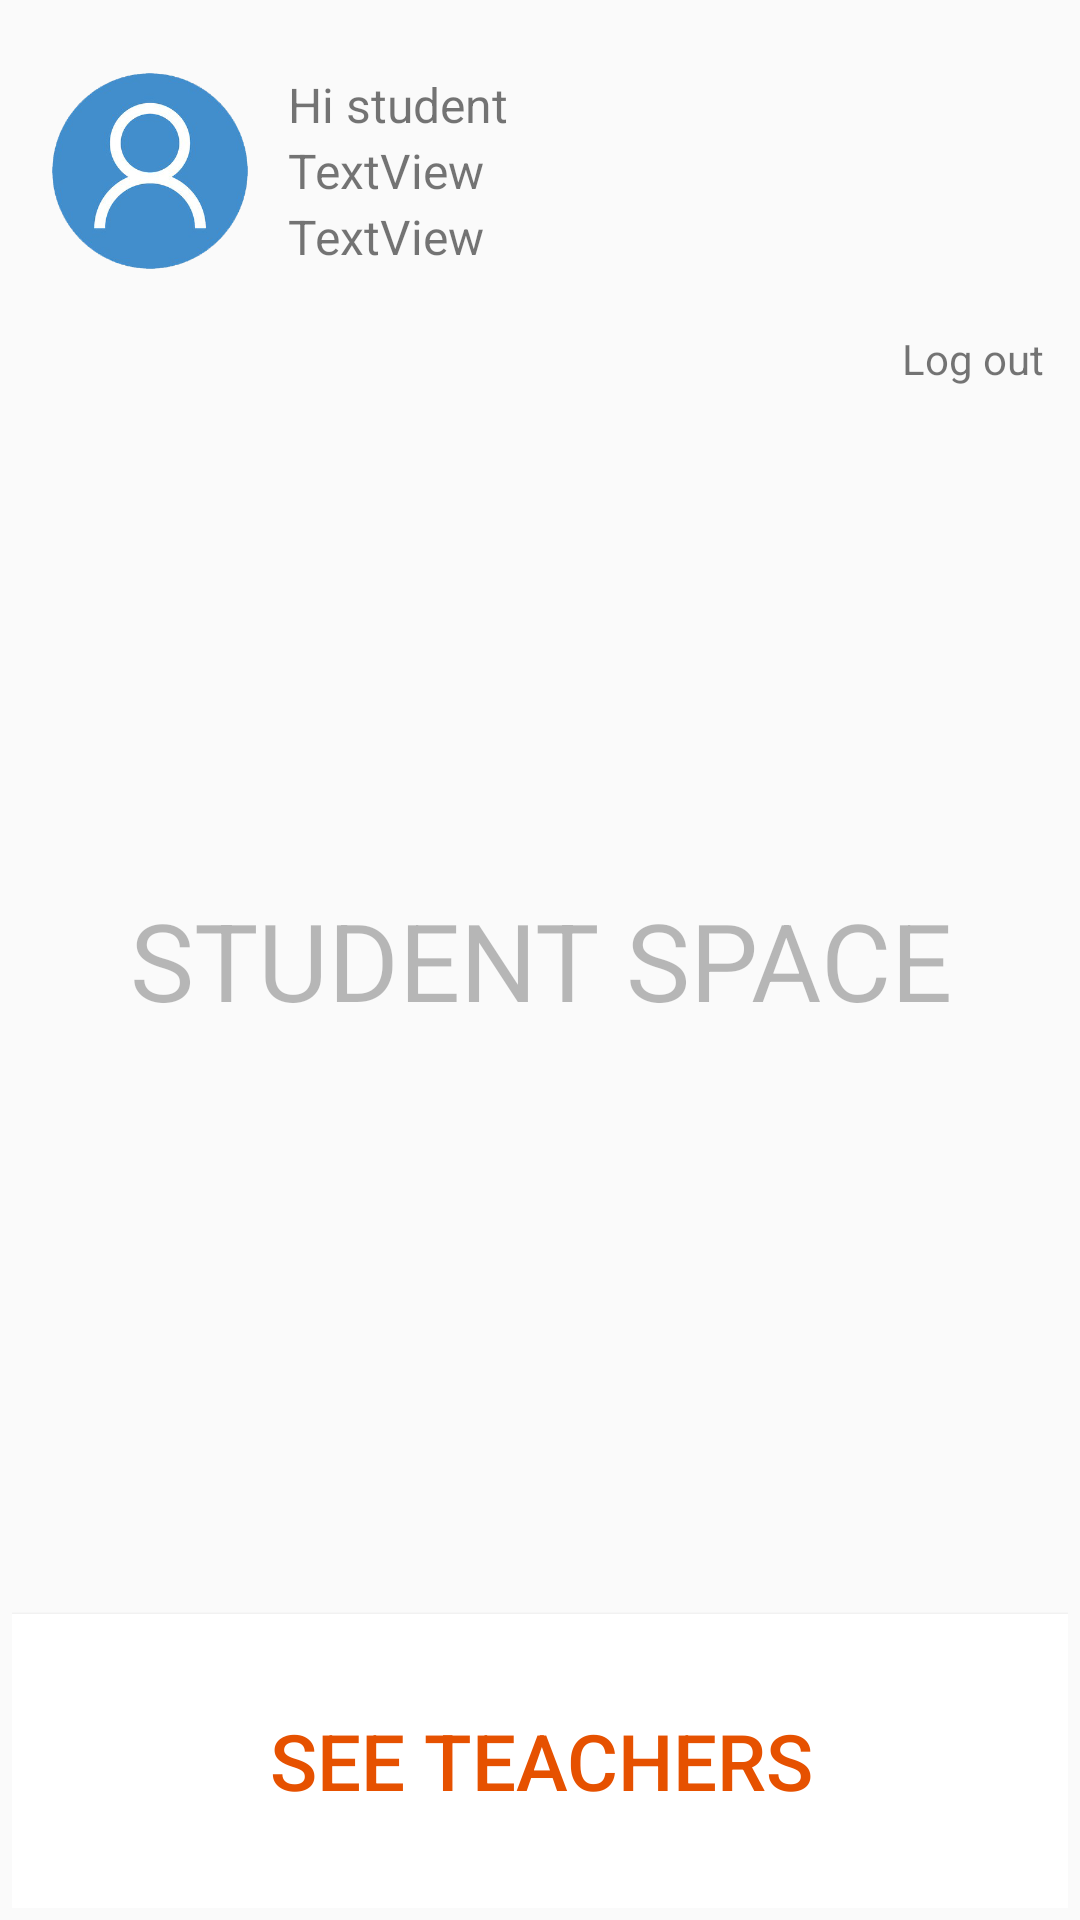

Screen size 1080×1920. Icon name, then its box in pixels as Rect(x1, y1, x2, y2):
userprofile: Rect(52, 73, 248, 269)
